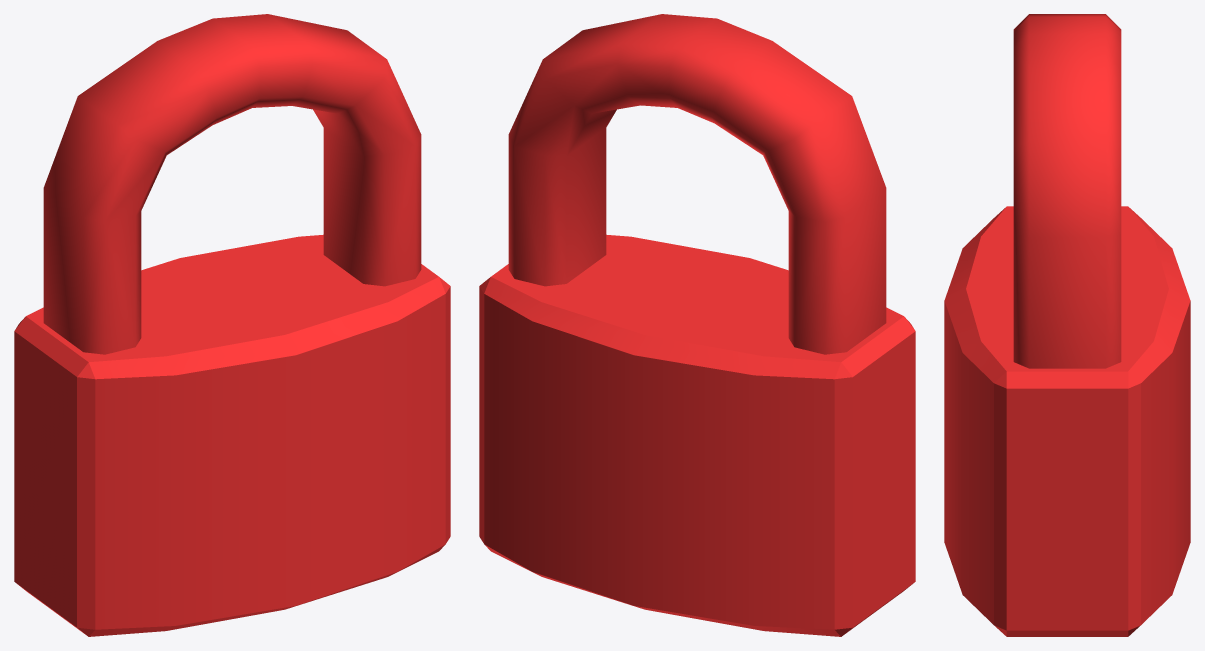
Rendered from Lock_01_001.fbx.
3 renders of one model, left to right at view 1: azimuth 30°, elevation 25°; view 2: azimuth 150°, elevation 25°; view 3: azimuth 270°, elevation 25°, orthographic. The views are drawn at different scales.
Visible parts, largest first — view 1: Lock_01_001; view 2: Lock_01_001; view 3: Lock_01_001.
Boxes of the visible parts, box(x1,y1,x2,y2) form: Lock_01_001: box(14, 14, 450, 636); Lock_01_001: box(479, 14, 915, 636); Lock_01_001: box(944, 14, 1190, 636).
Size of the model in its own units: 18.42 by 25.37 by 10.88.
